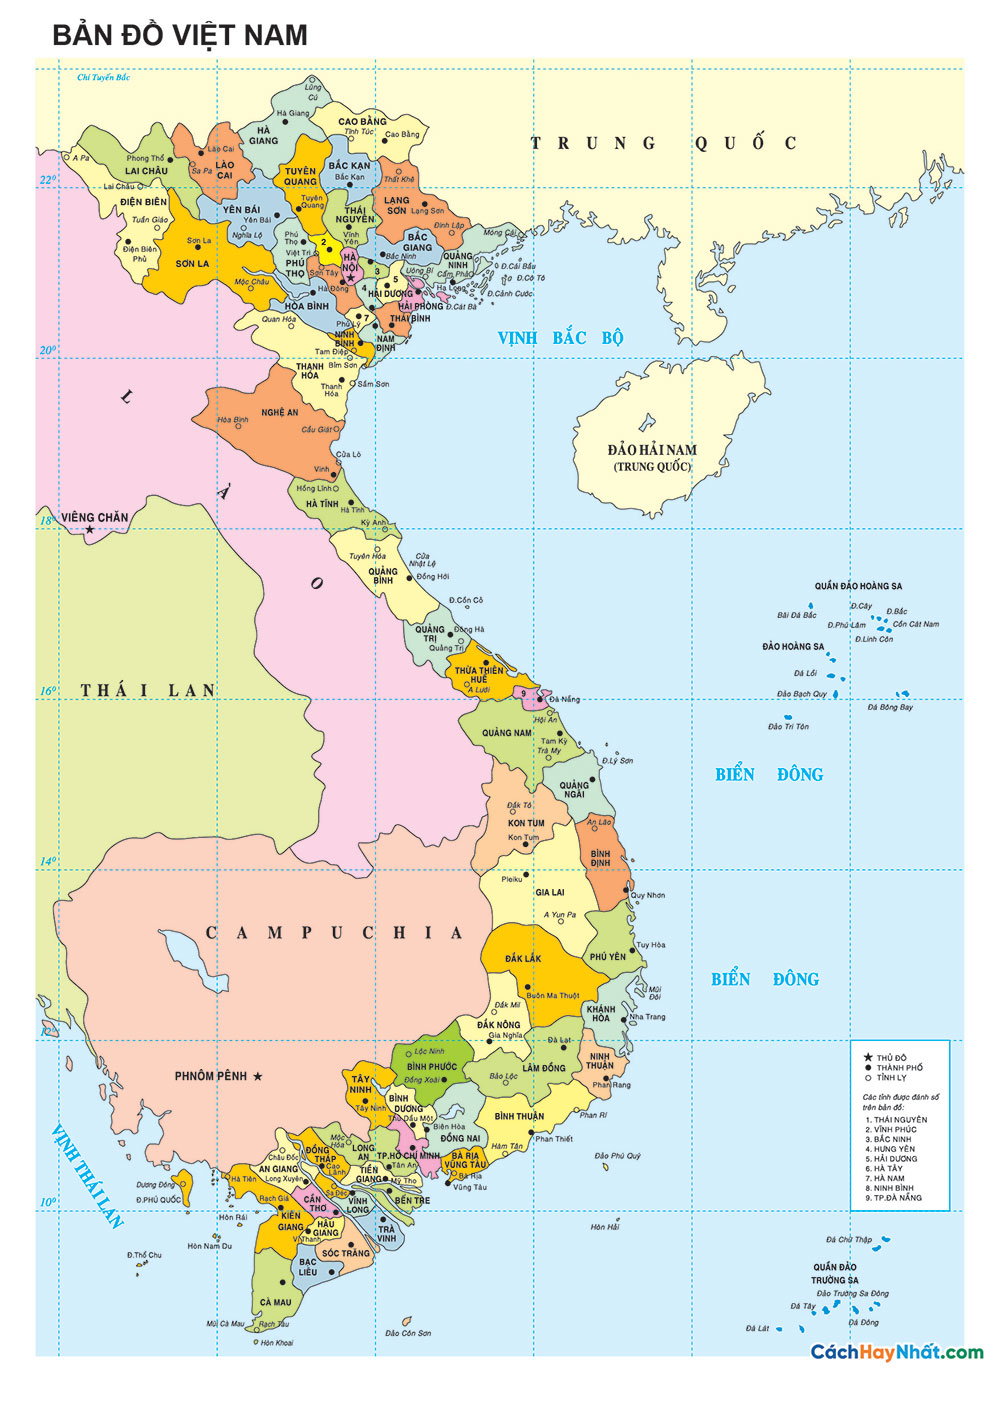Island: (732, 565, 945, 744), (721, 1226, 919, 1333)
